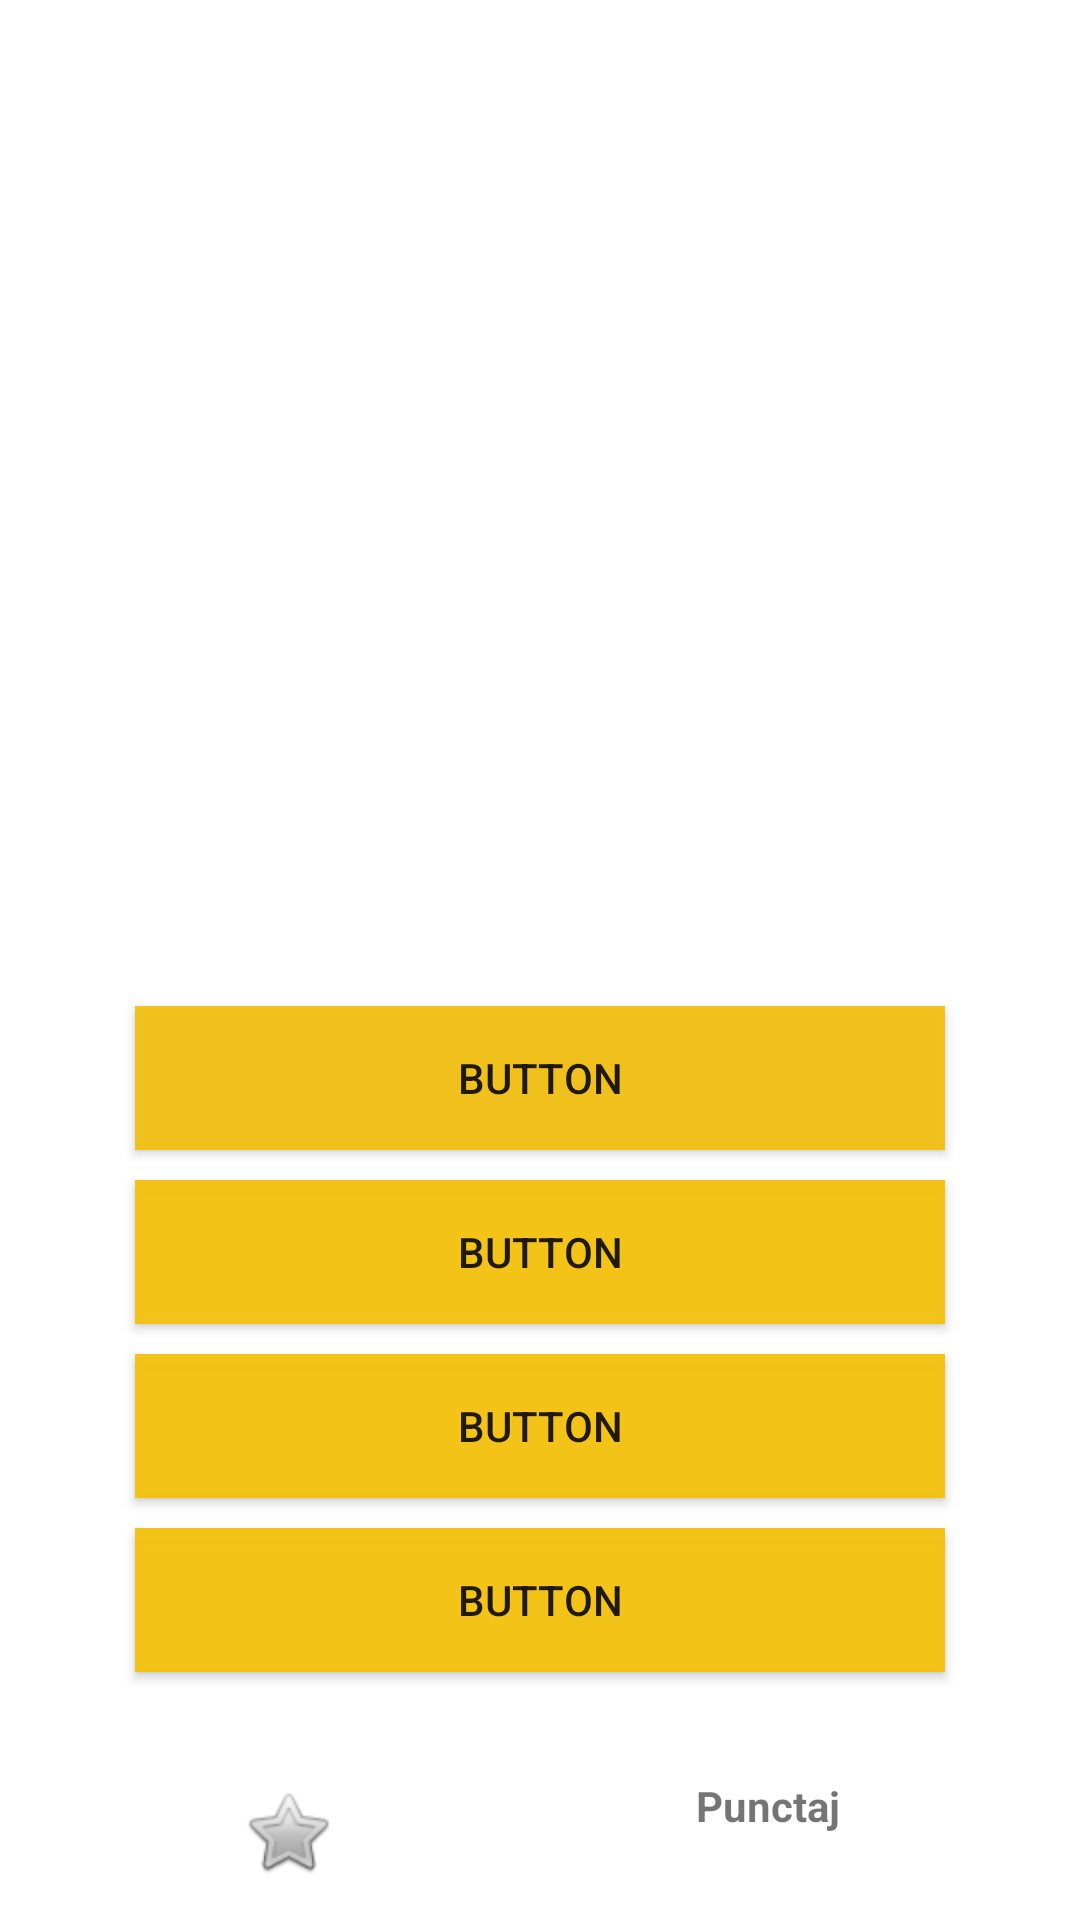

Point at icon controls on the screen. Image size 1080px x 1920px, points as (x=x, y=y).
star: (x=289, y=1833)
